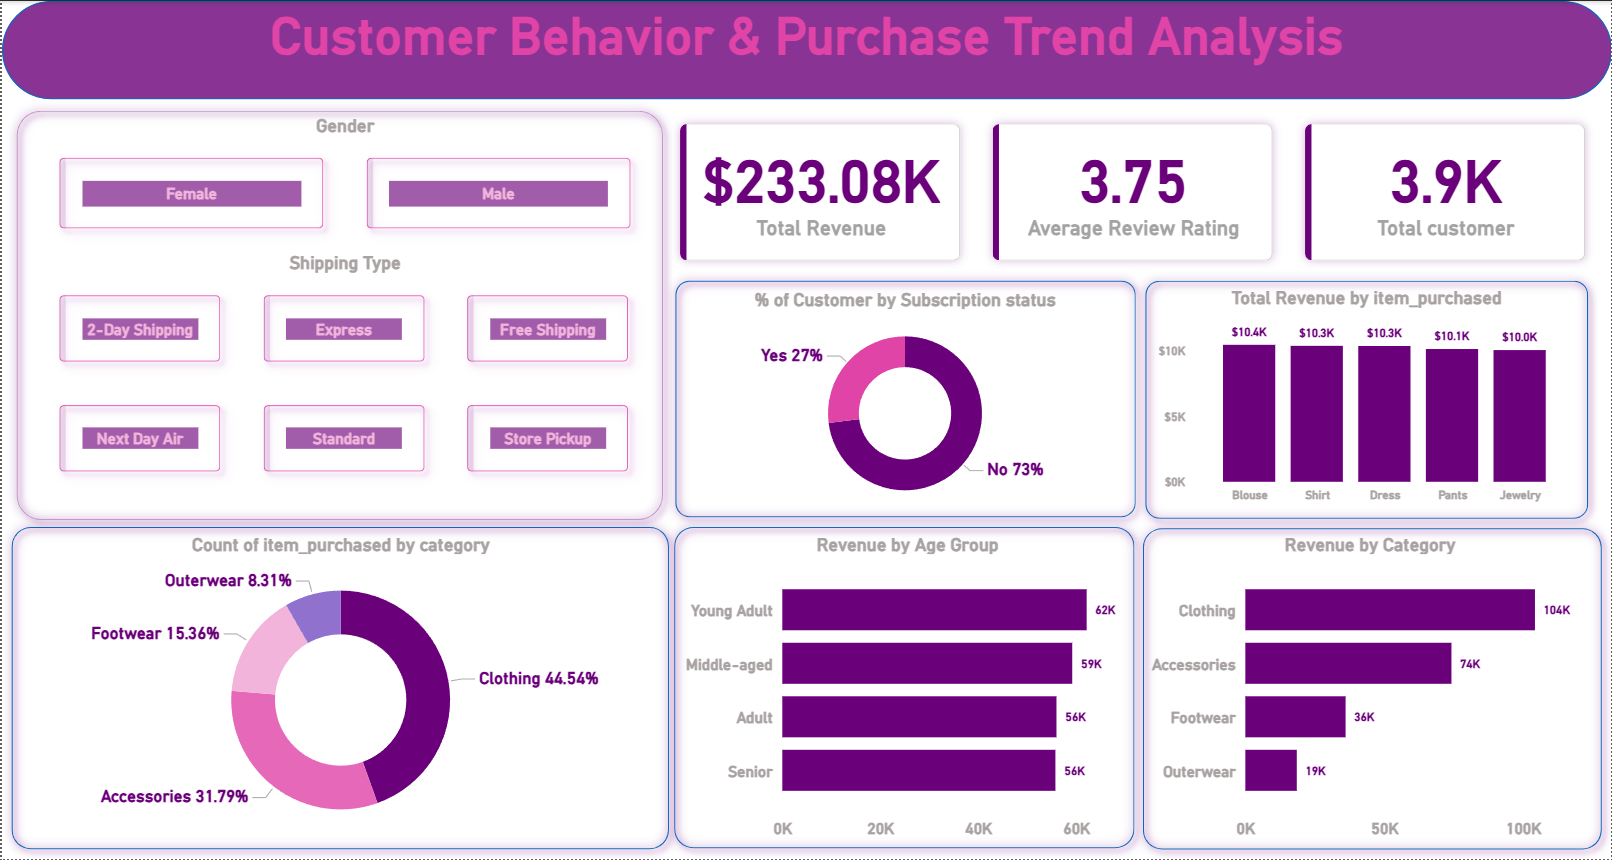

The dashboard page shown, as its layout file describes it:
{"tool":"powerbi","page":{"name":"Page 1","canvas":[1500,800],"ordinal":0},"visuals":[{"type":"cardVisual","fields":{"Data":["public customer.Average Purchase Amount","public customer.Average Review Rating","public customer.Total customer"]},"box":[607.7,91.3,892.5,175.8],"z":0},{"type":"shape","box":[0,0,1500.3,91.7],"z":1000},{"type":"textbox","box":[0,0,1500.3,91.3],"z":2000},{"type":"shape","box":[618.6,252.1,446.9,238.5],"z":3000},{"type":"donutChart","title":"% of Customer by Subscription status","fields":{"Y":["CountNonNull(public customer.customer_id)"],"Category":["public customer.subscription_status"]},"box":[630.5,267.7,423,213.9],"z":4000},{"type":"shape","box":[1056.1,252.1,430.6,239.8],"z":5000},{"type":"barChart","title":"Revenue by Category","fields":{"Category":["public customer.category"],"Y":["Sum(public customer.purchase_amount)"]},"box":[1065.6,496,418.3,291.6],"z":6000},{"type":"barChart","title":"Revenue by Age Group","fields":{"Category":["public customer.age_group"],"Y":["Sum(public customer.purchase_amount)"]},"box":[630.9,496,425.1,291.6],"z":7000},{"type":"shape","box":[1054.7,482.4,445.6,317.5],"z":8000},{"type":"shape","box":[617.3,481,446.9,317.5],"z":9000},{"type":"columnChart","fields":{"Category":["public customer.item_purchased"],"Y":["public customer.Total Revenue"]},"box":[1072.4,267.1,397.9,208.5],"z":10000},{"type":"pieChart","fields":{"Category":["public customer.category"],"Y":["CountNonNull(public customer.item_purchased)"]},"box":[14.3,495.9,603.6,291.5],"z":11000},{"type":"shape","box":[0,481.6,630.5,318.4],"z":12000},{"type":"shape","box":[5.1,93.2,620.3,399.5],"z":13000},{"type":"advancedSlicerVisual","title":"Gender","fields":{"Values":["public customer.gender"]},"box":[33.2,105.9,574.3,127.6],"z":14000},{"type":"advancedSlicerVisual","title":"Shipping Type","fields":{"Values":["public customer.shipping_type"]},"box":[33.2,233.6,574.3,225.9],"z":15000}]}

Visuals, with their boxes in screenshot pixels (x1, y1, x2, y2), scaled from the page's 1500x800 canvas onto the 1612x860 screenshot:
cardVisual - public customer.Average Purchase Amount x public customer.Average Review Rating: [left=653, top=98, right=1611, bottom=287]
shape: [left=0, top=0, right=1611, bottom=99]
textbox: [left=0, top=0, right=1611, bottom=98]
shape: [left=665, top=271, right=1145, bottom=527]
"% of Customer by Subscription status" donutChart: [left=678, top=288, right=1132, bottom=518]
shape: [left=1135, top=271, right=1598, bottom=529]
"Revenue by Category" barChart: [left=1145, top=533, right=1595, bottom=847]
"Revenue by Age Group" barChart: [left=678, top=533, right=1135, bottom=847]
shape: [left=1133, top=519, right=1611, bottom=859]
shape: [left=663, top=517, right=1144, bottom=858]
columnChart - public customer.item_purchased x public customer.Total Revenue: [left=1152, top=287, right=1580, bottom=511]
pieChart - public customer.category x CountNonNull(public customer.item_purchased): [left=15, top=533, right=664, bottom=846]
shape: [left=0, top=518, right=678, bottom=859]
shape: [left=5, top=100, right=672, bottom=530]
"Gender" advancedSlicerVisual: [left=36, top=114, right=653, bottom=251]
"Shipping Type" advancedSlicerVisual: [left=36, top=251, right=653, bottom=494]
